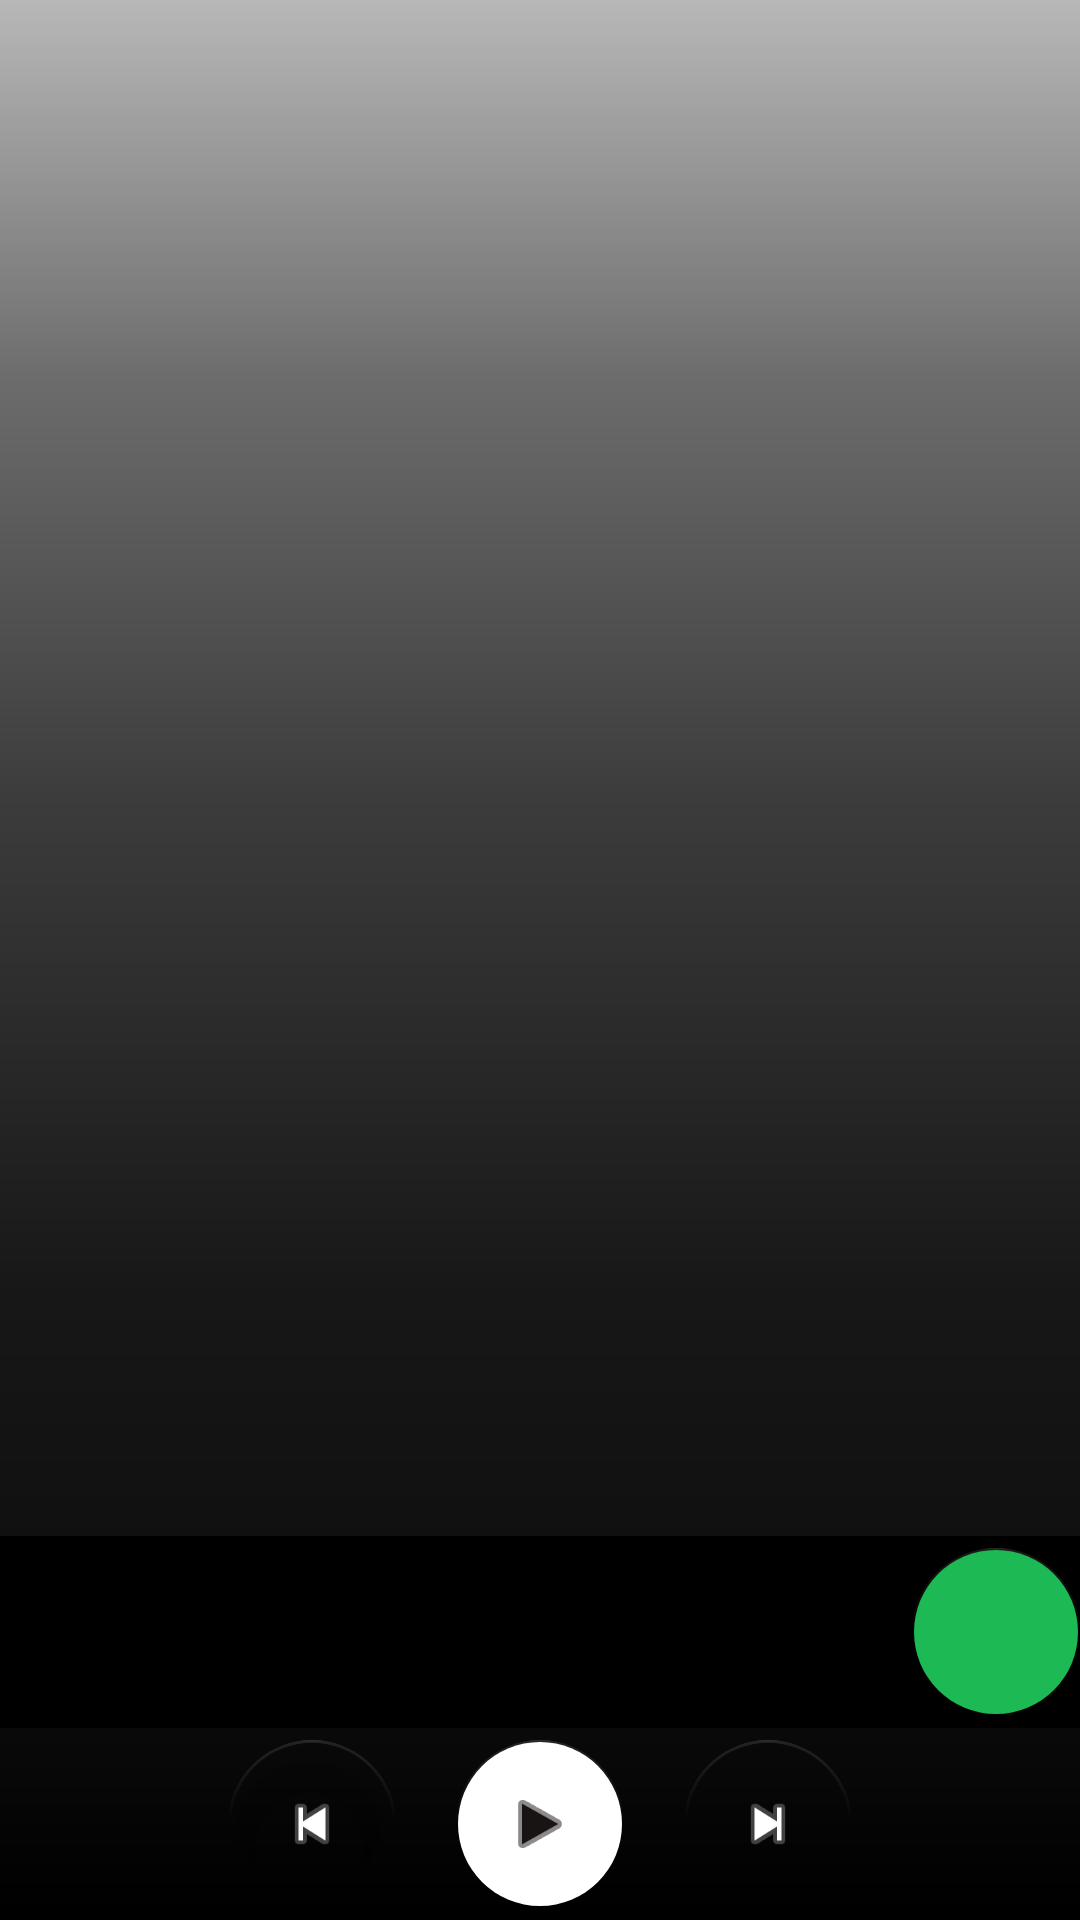

Locate icon controls on the screen. Image size 1080×1920, boxes as (x1, y1, x2, y2).
play: (458, 1740, 622, 1906)
